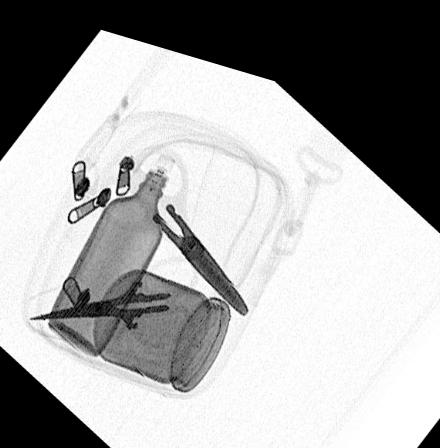Scissors: (100, 133, 252, 303), (25, 244, 204, 338)
